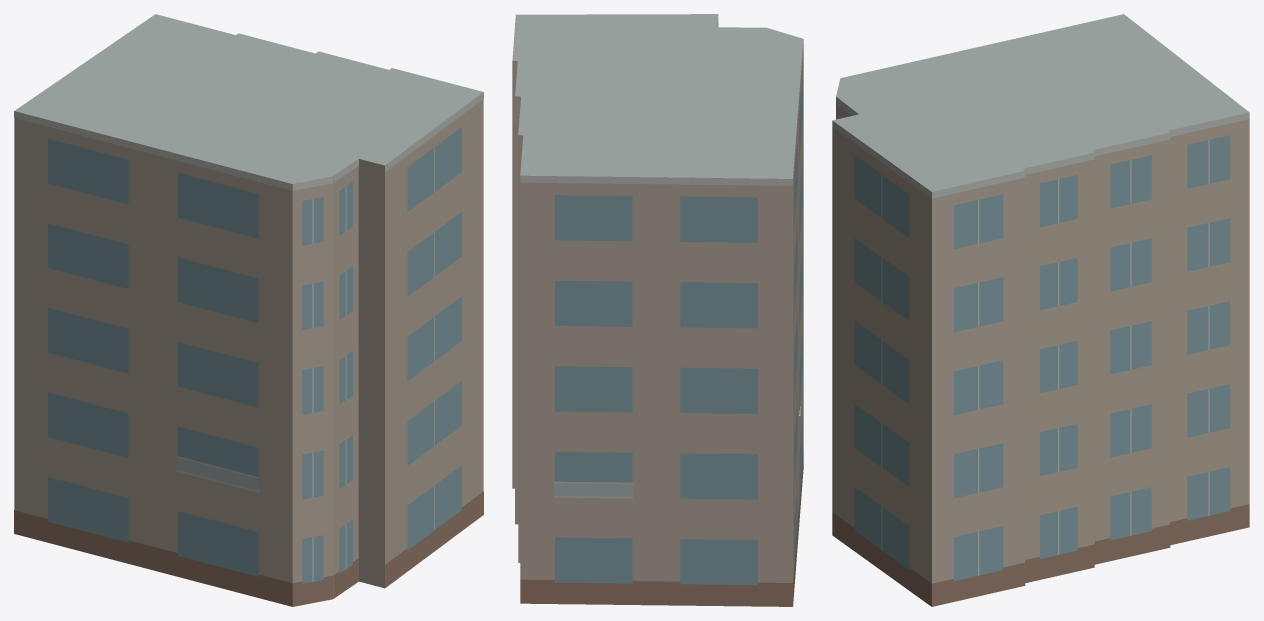
The model's file is survey-upis-32598534.glb.
The picture shows the model from 3 angles, left to right: view 1: azimuth 30°, elevation 25°; view 2: azimuth 150°, elevation 25°; view 3: azimuth 270°, elevation 25°; orthographic projection. The views are drawn at different scales.
Parts seen in each view (by area): view 1: survey-upis-32598534.tmp; view 2: survey-upis-32598534.tmp; view 3: survey-upis-32598534.tmp.
Boxes of the visible parts, x1=… form: survey-upis-32598534.tmp: x1=14, y1=14, x2=483, y2=606; survey-upis-32598534.tmp: x1=512, y1=14, x2=803, y2=606; survey-upis-32598534.tmp: x1=832, y1=14, x2=1249, y2=606.
Bounding box in the file's own units: 13.9 × 15.1 × 13.77.
